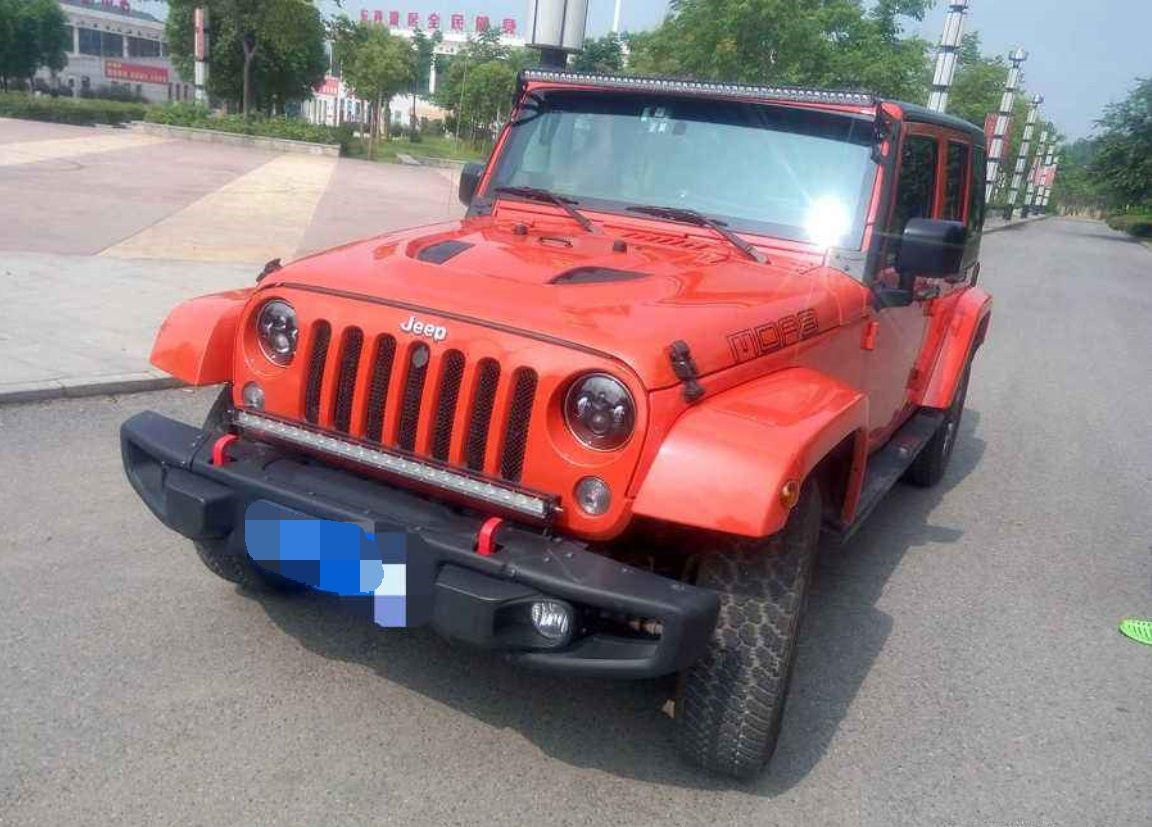jeep: (130, 69, 1007, 775)
